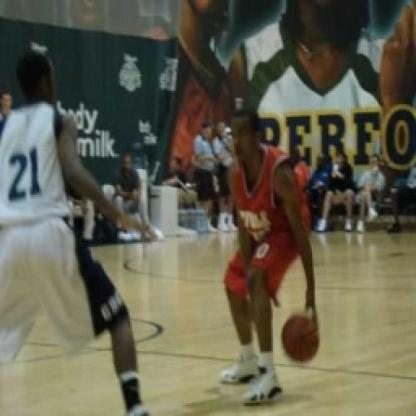basketball: (278, 311, 325, 366)
